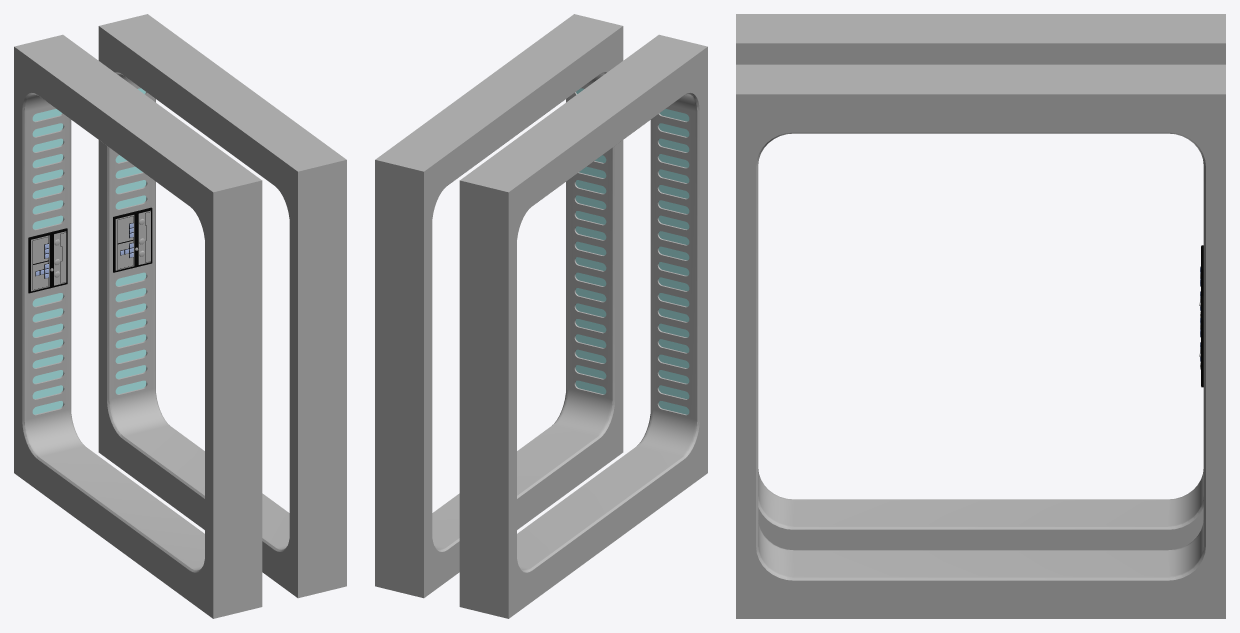
The model's file is ds_door_frame.fbx.
3 views of the same model, side by side, from view 1: azimuth 30°, elevation 25°; view 2: azimuth 150°, elevation 25°; view 3: azimuth 270°, elevation 25° (orthographic). The views are drawn at different scales.
Visible parts, largest first — view 1: Empty_Mesh; view 2: Empty_Mesh; view 3: Empty_Mesh.
Boxes of the visible parts, left/top/right/bottom form: Empty_Mesh: left=14, top=14, right=346, bottom=618; Empty_Mesh: left=375, top=14, right=707, bottom=618; Empty_Mesh: left=736, top=14, right=1225, bottom=618.
Bounding box in the file's own units: 42.6 × 130 × 110.
